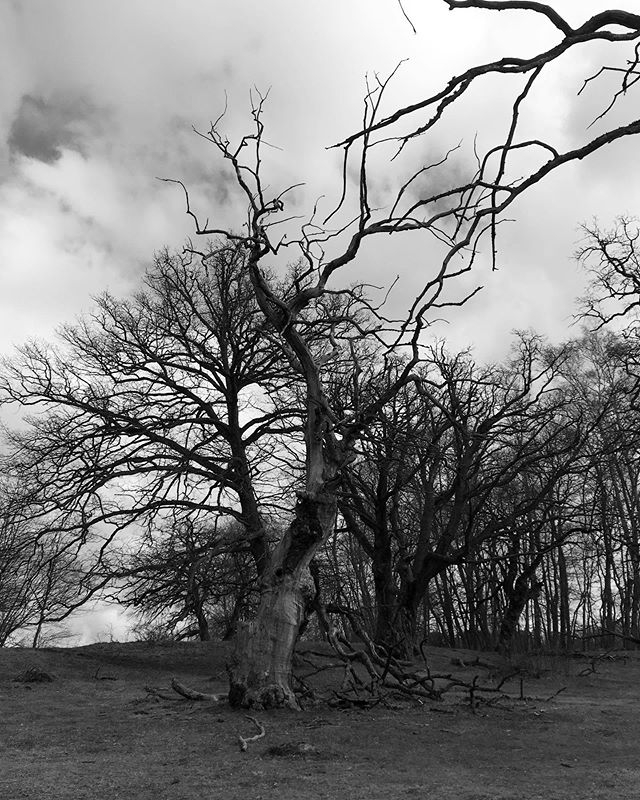sky: (1, 1, 631, 305)
tree: (72, 292, 346, 691), (346, 370, 559, 697), (405, 1, 640, 266)
